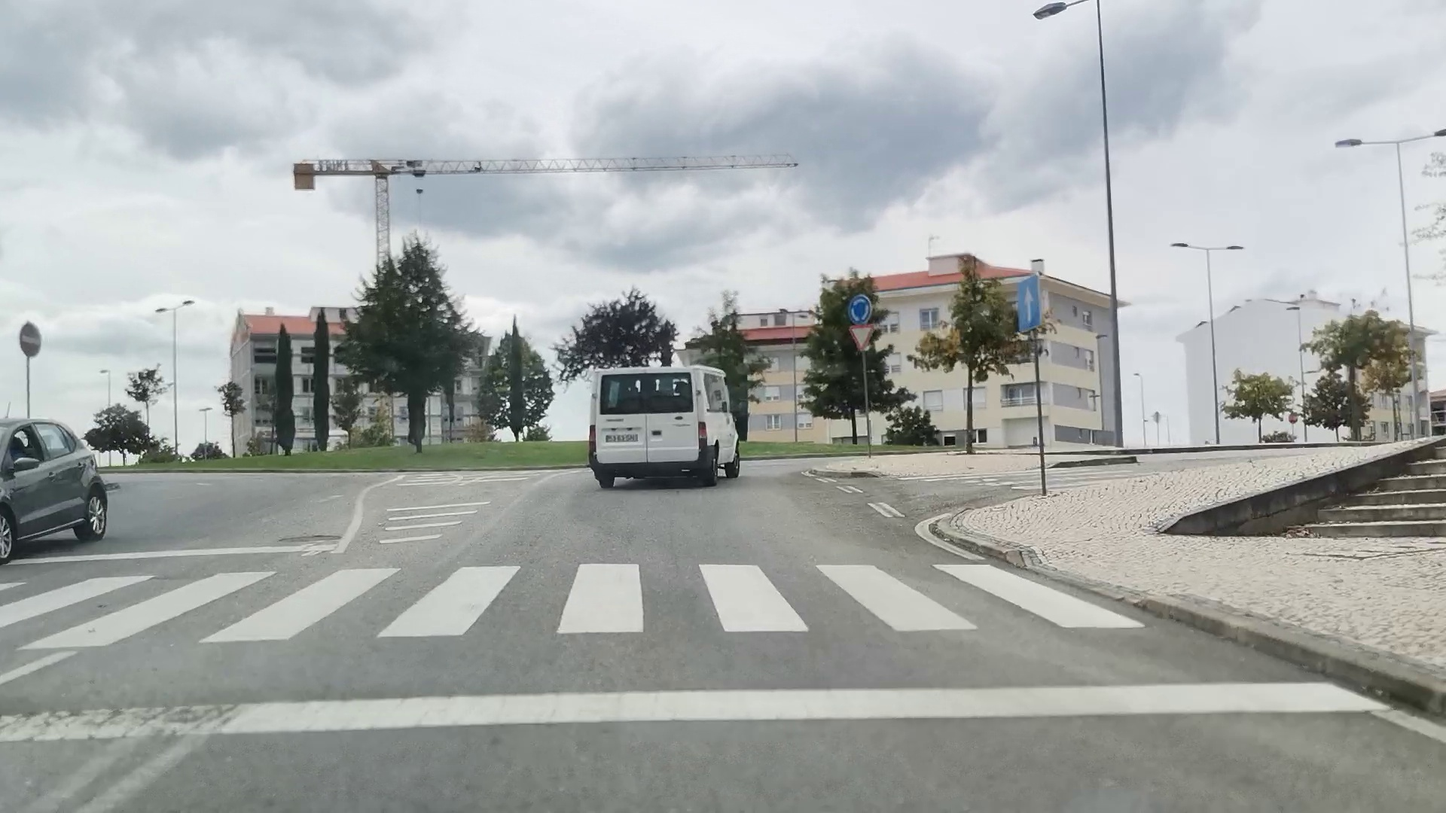Stairs: (0, 558, 1146, 654)
